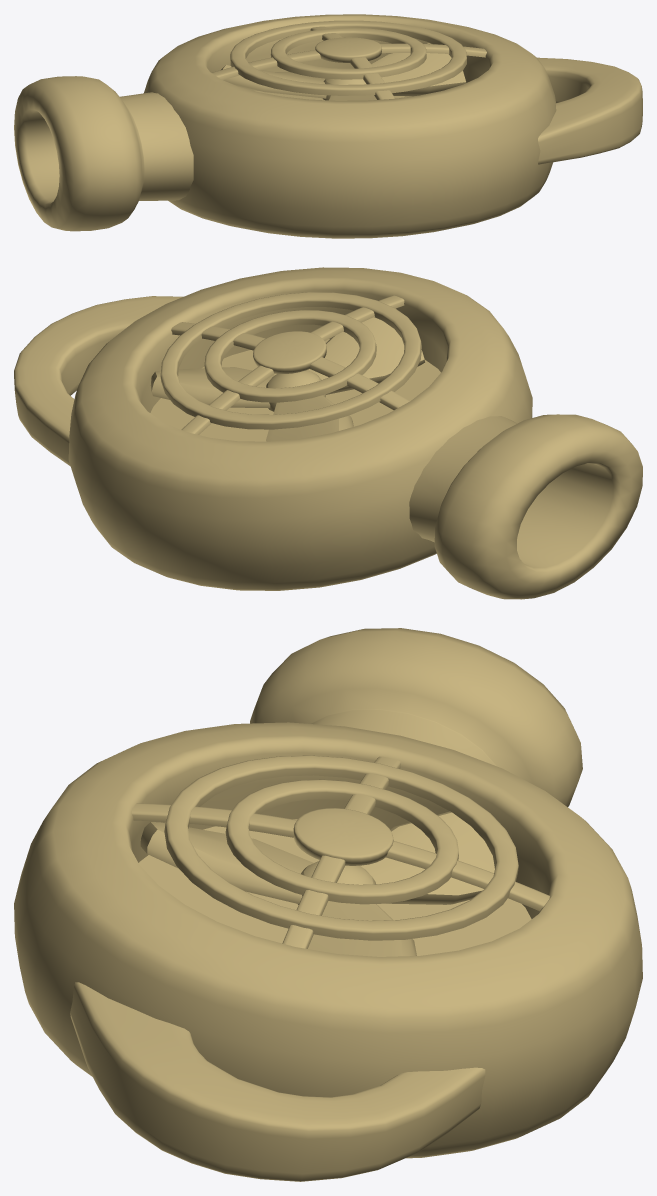
Rendered from WindBlower - Shadow.fbx.
The picture shows the model from 3 angles, top to bottom: view 1: azimuth 30°, elevation 25°; view 2: azimuth 150°, elevation 25°; view 3: azimuth 270°, elevation 25°; orthographic projection. The views are drawn at different scales.
Visible parts, largest first — view 1: WindBlower - Shadow, Cylinder009; view 2: WindBlower - Shadow, Cylinder009; view 3: WindBlower - Shadow, Cylinder009.
Boxes of the visible parts, x1,y1,x2,y2 form: WindBlower - Shadow: (14,14,642,238); Cylinder009: (221,43,466,100); WindBlower - Shadow: (14,267,642,599); Cylinder009: (150,317,424,441); WindBlower - Shadow: (14,628,642,1181); Cylinder009: (140,811,494,956).
Bounding box in the file's own units: 14.53 × 4.13 × 9.53.
